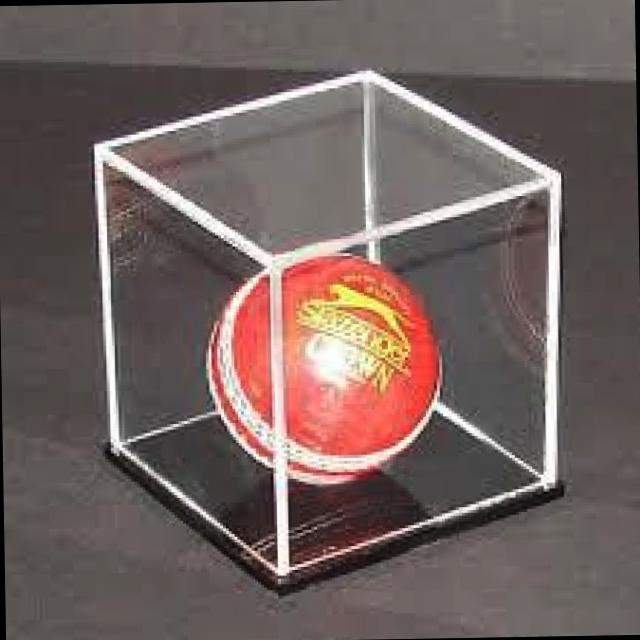ball: (200, 248, 454, 492)
